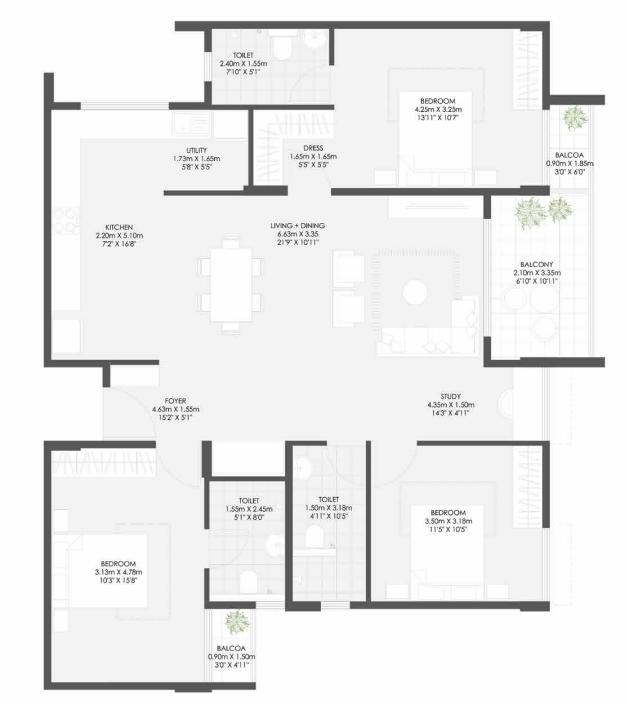Balcony: (484, 194, 595, 359)
Bed: (45, 533, 150, 605), (399, 90, 470, 188), (415, 506, 480, 610)
Bedroom: (48, 449, 205, 685), (331, 26, 548, 190), (371, 443, 544, 600)
Dining Room: (163, 195, 326, 394)
Dining table: (196, 240, 270, 338)
Foyer: (105, 389, 310, 442)
Kitchen: (52, 110, 161, 361)
Living Room: (326, 195, 482, 442)
Sofa: (378, 325, 484, 358), (333, 252, 362, 326), (450, 295, 482, 348), (405, 283, 426, 302)
Wardrobe: (48, 449, 155, 478), (513, 445, 543, 529), (512, 30, 543, 108), (253, 109, 334, 138), (254, 112, 283, 185)
balcoa: (550, 106, 594, 193), (208, 610, 254, 683)
commode: (272, 35, 292, 62), (240, 570, 257, 596), (307, 528, 323, 549)
door: (105, 388, 155, 441), (372, 443, 417, 491), (157, 443, 202, 490), (327, 445, 367, 489), (290, 65, 330, 106), (290, 155, 331, 194), (207, 531, 250, 568)
sink: (172, 110, 211, 139), (265, 534, 285, 557), (304, 30, 328, 48), (296, 458, 312, 479)
stove: (51, 207, 79, 237)
toilet: (212, 27, 332, 107), (209, 482, 286, 603)
tv: (393, 200, 482, 219)
utility: (158, 109, 252, 191)
